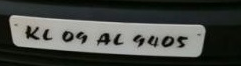0: (160, 35, 175, 50), (61, 29, 75, 44)
4: (147, 34, 160, 48)
5: (176, 35, 189, 50)
9: (74, 29, 90, 45), (131, 33, 145, 49)
A: (95, 31, 111, 48)
K: (25, 25, 42, 42)
L: (112, 33, 126, 48), (41, 27, 54, 42)
